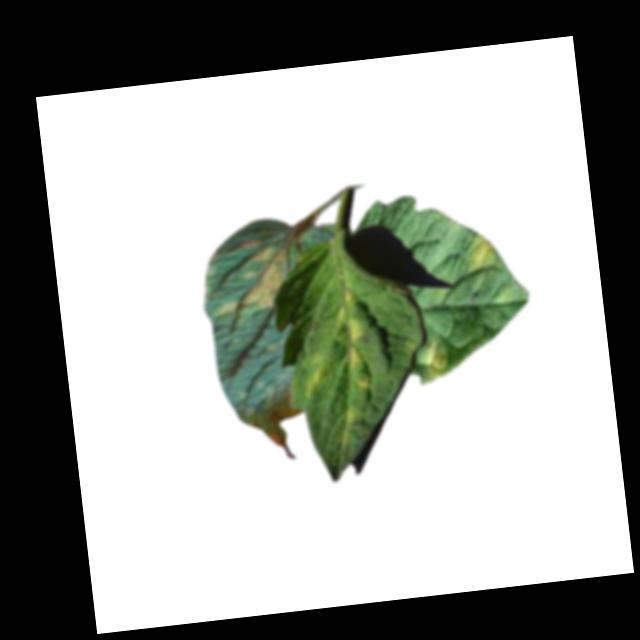Leaf_Mold: (326, 286, 378, 446), (204, 235, 295, 321), (463, 233, 503, 280), (298, 353, 333, 401), (417, 339, 453, 383)
